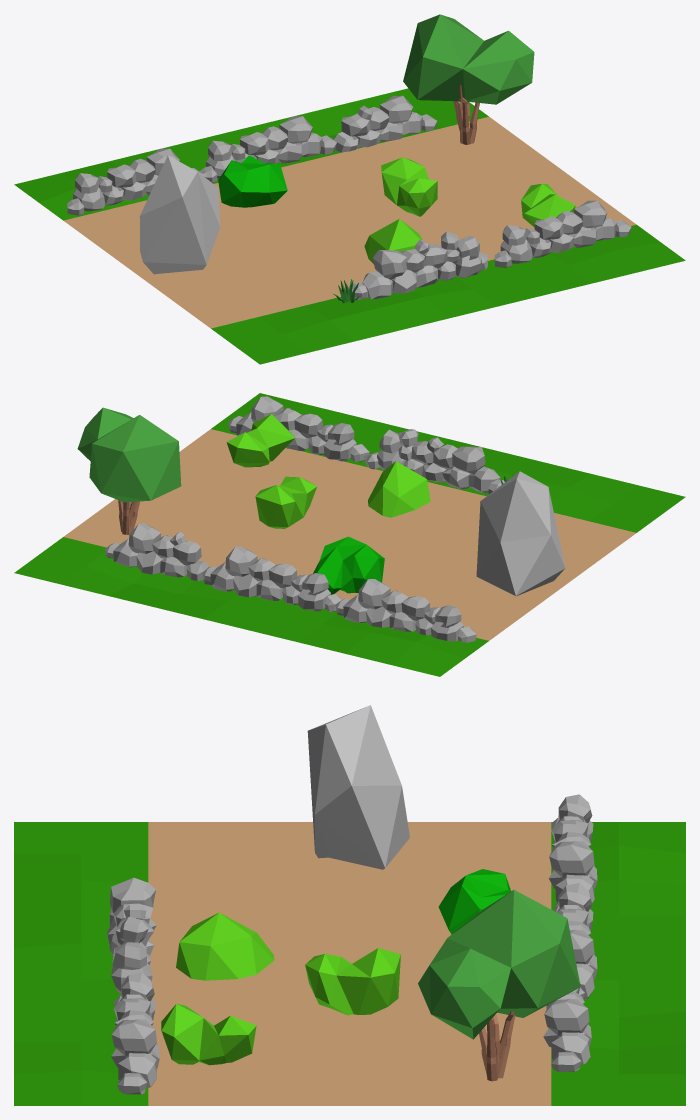
File: MEADOW_ROAD01.fbx
The picture shows the model from 3 angles, top to bottom: view 1: azimuth 30°, elevation 25°; view 2: azimuth 150°, elevation 25°; view 3: azimuth 270°, elevation 25°; orthographic projection. The views are drawn at different scales.
Parts seen in each view (by area): view 1: Icosphere.107; view 2: Icosphere.107; view 3: Icosphere.107.
Part boxes in pixels (x1,y1,x2,y2): Icosphere.107: (14,14,685,364); Icosphere.107: (14,393,685,676); Icosphere.107: (14,705,685,1105).
Size of the model in its own units: 1022 by 365 by 1000.
